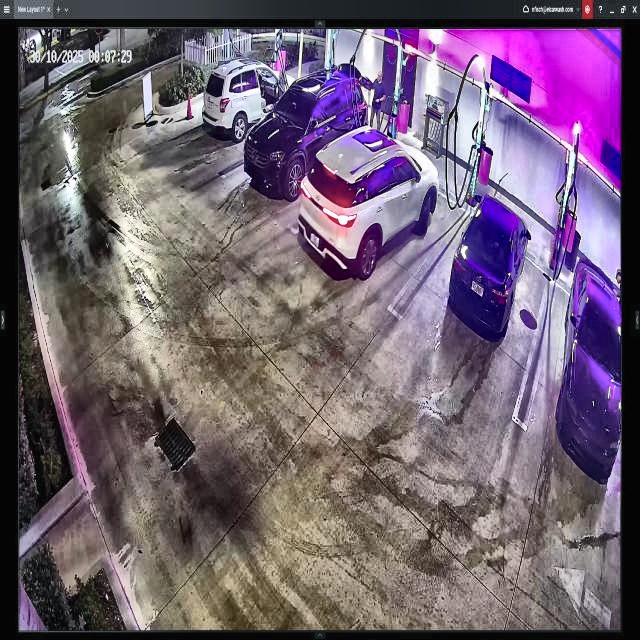Car: (299, 126, 439, 281), (245, 63, 368, 194), (449, 195, 531, 336)
